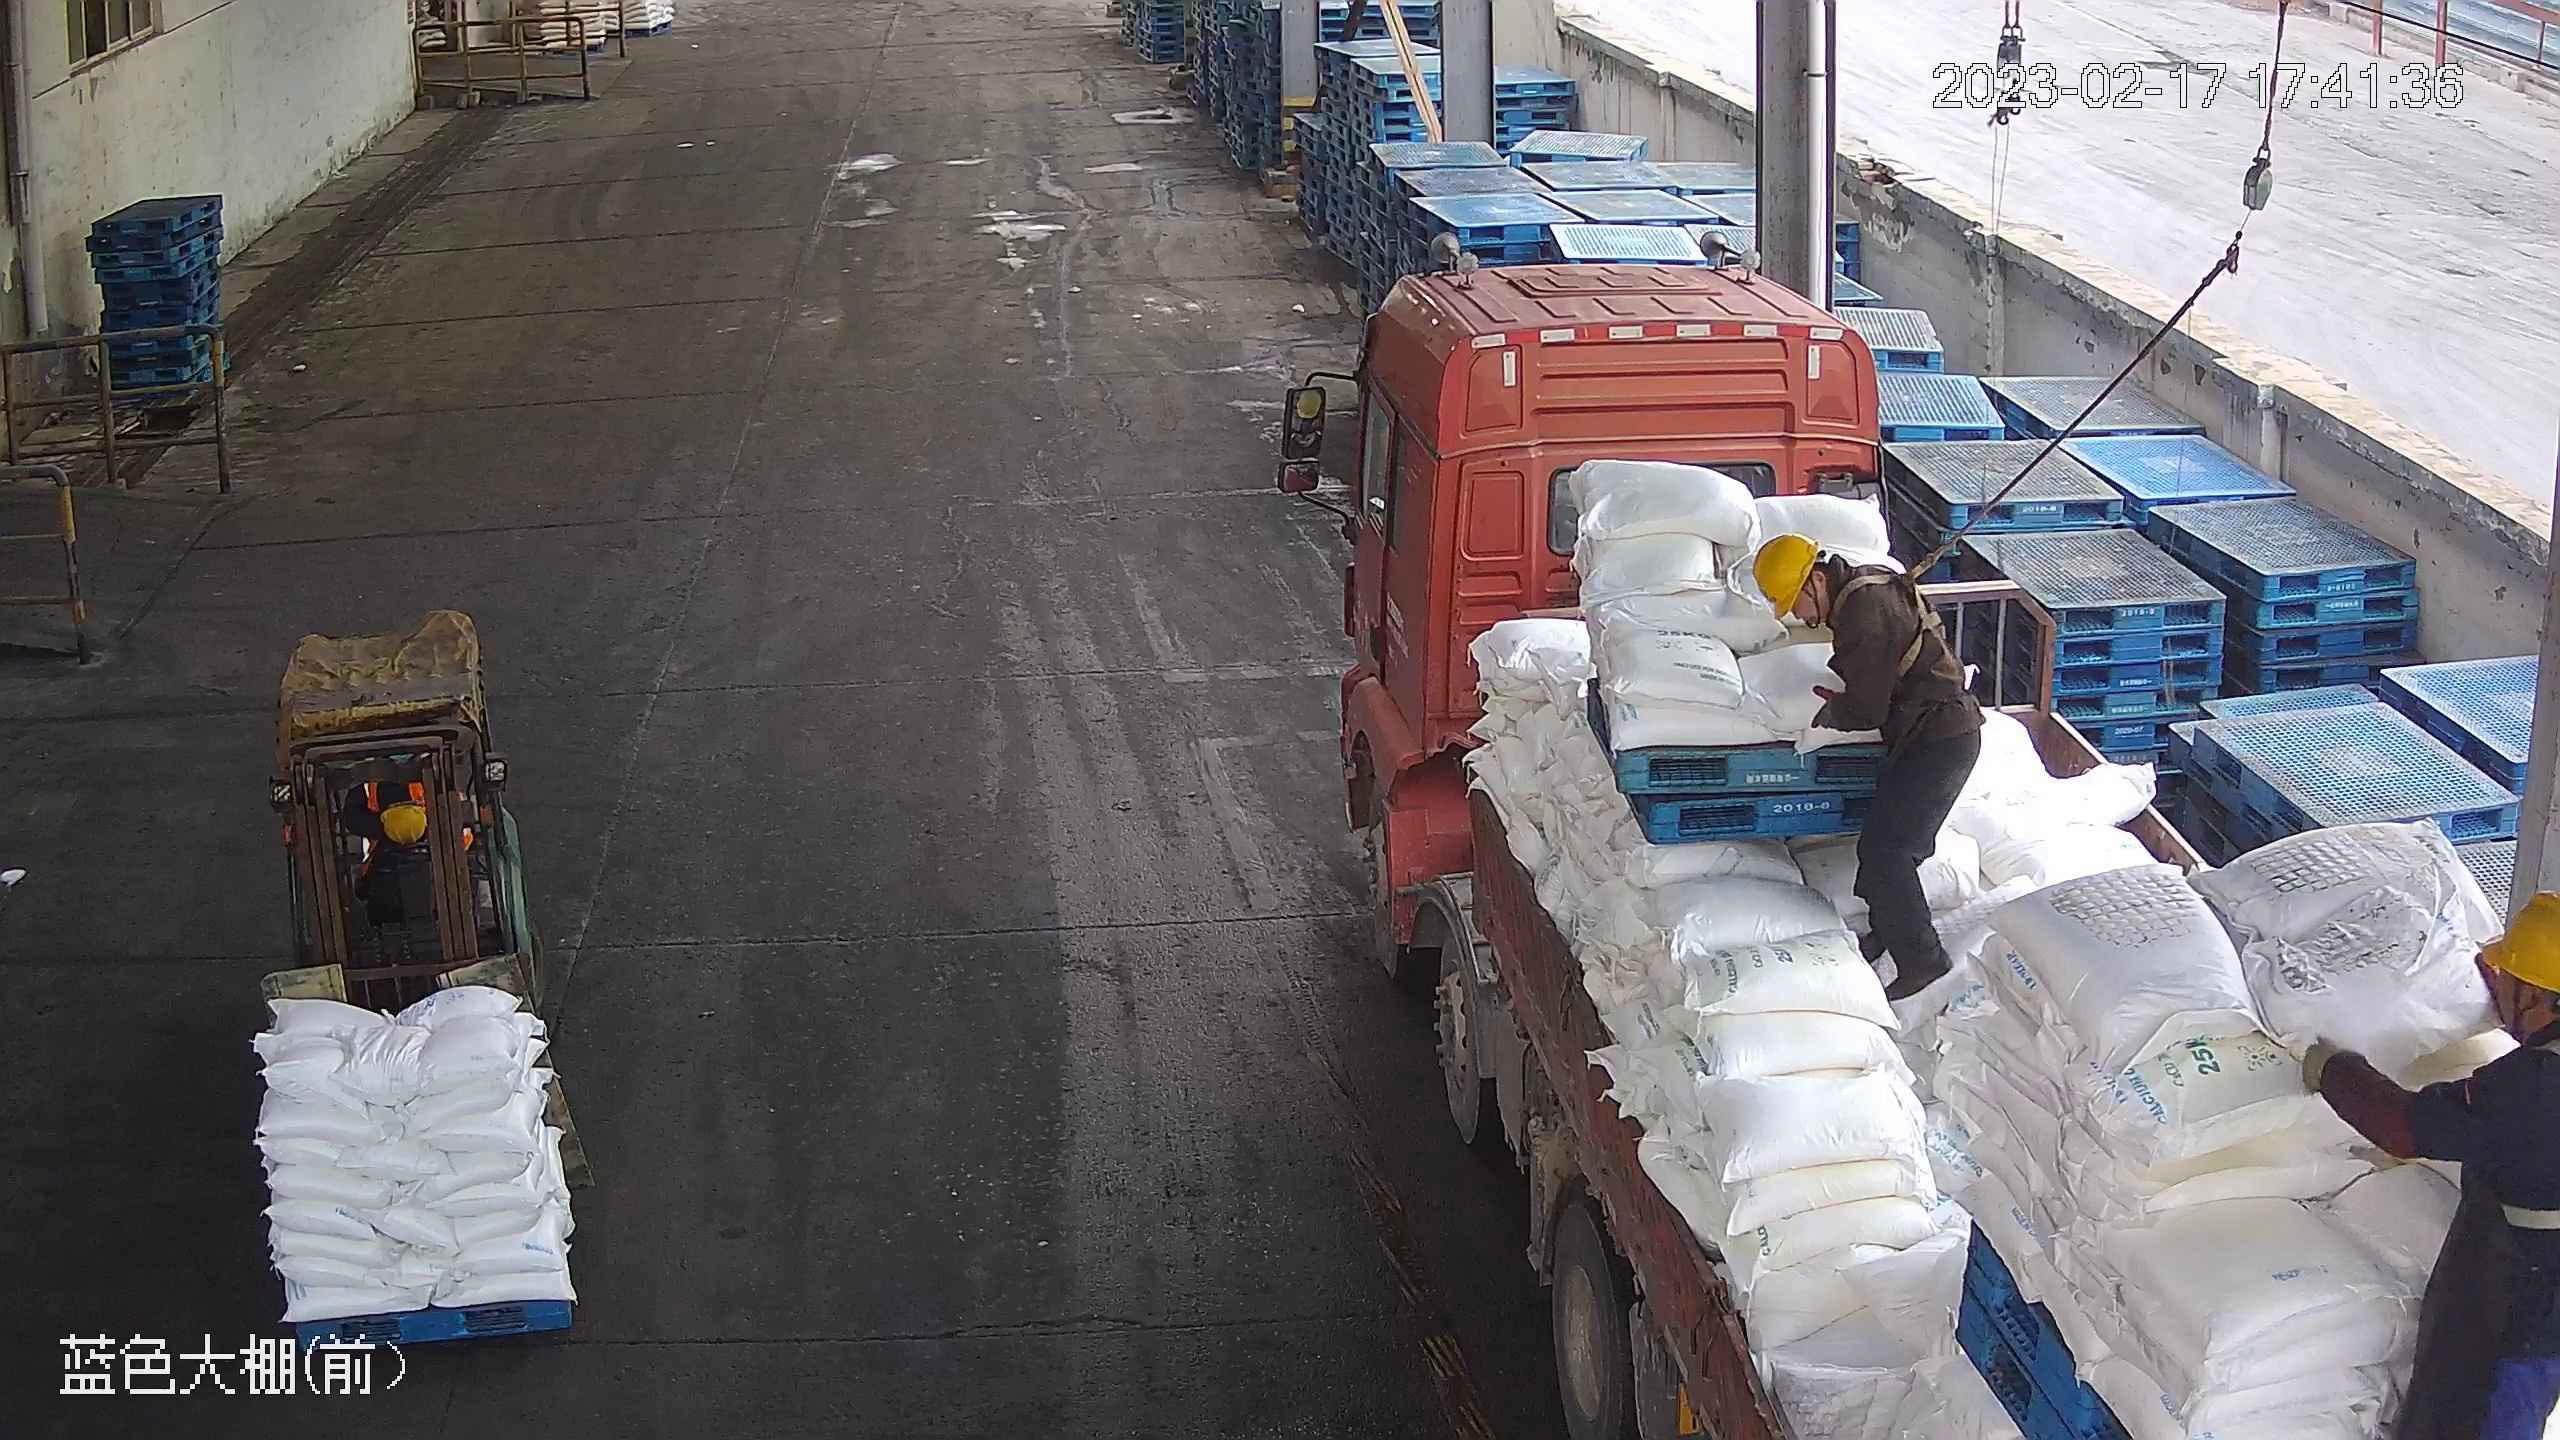belt: (1832, 553, 1953, 674), (2488, 1018, 2559, 1224)
head: (2418, 895, 2560, 1150), (1749, 529, 1925, 683)
helmet: (2469, 892, 2560, 997), (1753, 530, 1820, 620)
people: (2300, 887, 2560, 1437), (1755, 527, 1984, 1001)
truck: (1271, 257, 2547, 1427)
